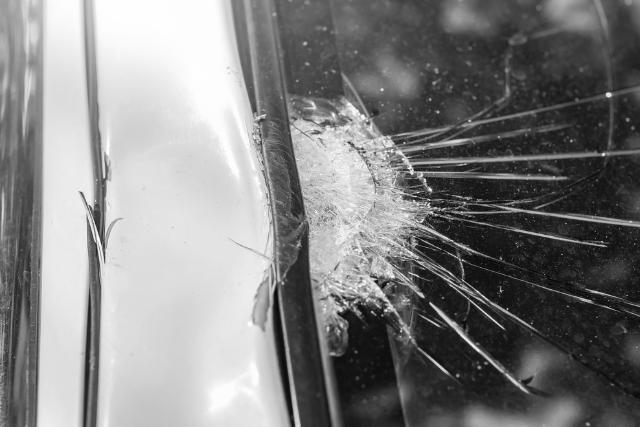Windshield: (275, 11, 640, 425)
